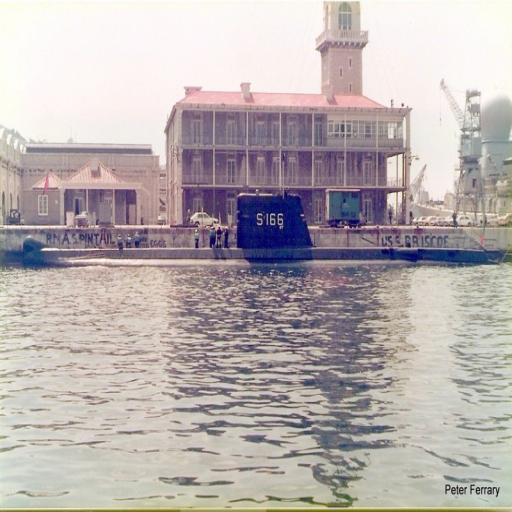submarine: (23, 178, 512, 267)
